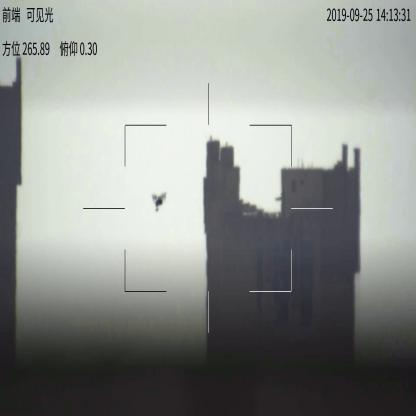uav: (150, 189, 167, 212)
